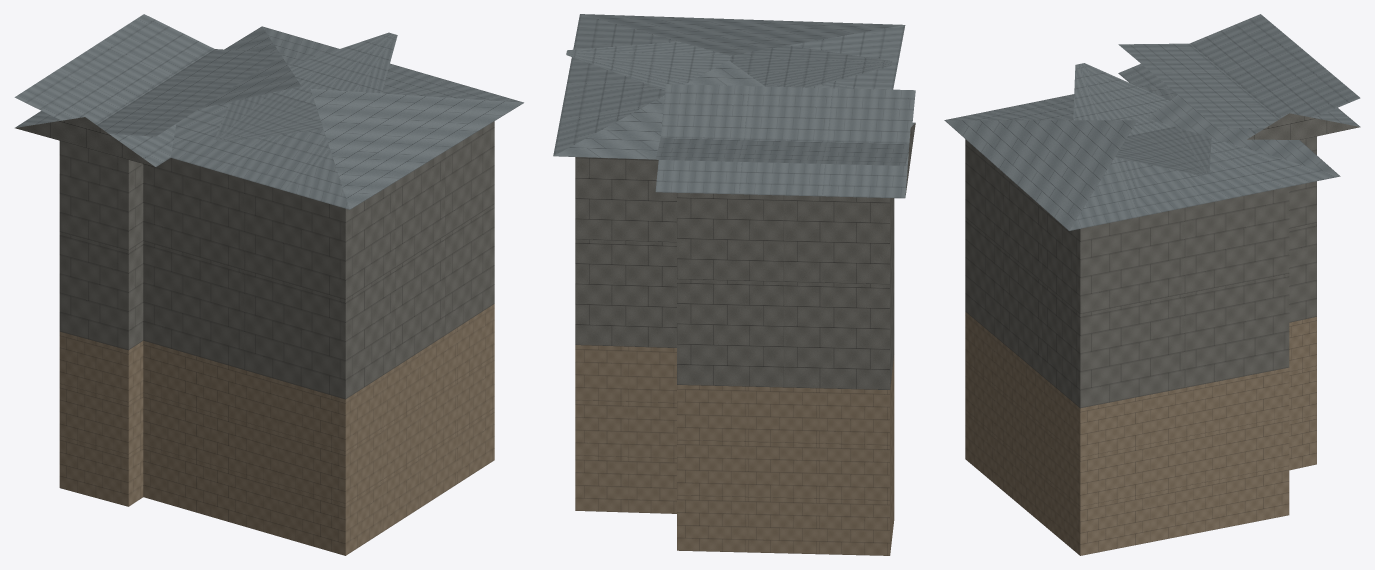
The model's file is bld_c-2_17_530.gltf.
The picture shows the model from 3 angles, left to right: view 1: azimuth 30°, elevation 25°; view 2: azimuth 150°, elevation 25°; view 3: azimuth 270°, elevation 25°; orthographic projection. The views are drawn at different scales.
Visible parts, largest first — view 1: bld_c-2_17_530; view 2: bld_c-2_17_530; view 3: bld_c-2_17_530.
Boxes of the visible parts, <box> form: bld_c-2_17_530: <box>14,14,523,555</box>; bld_c-2_17_530: <box>553,14,915,555</box>; bld_c-2_17_530: <box>944,14,1360,555</box>.
Size of the model in its own units: 13.93 by 12.6 by 13.04.
4 materials, 4 textured.
